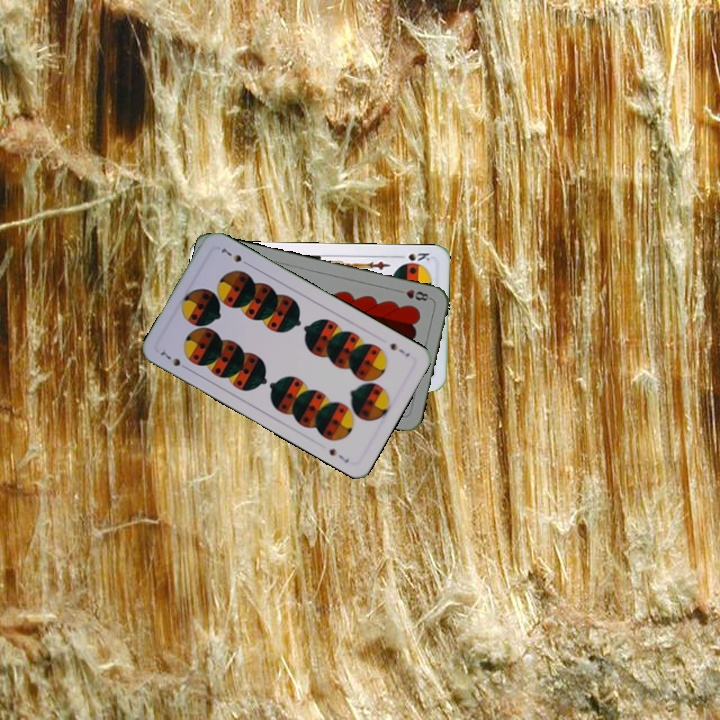H8: (393, 285, 433, 304)
S7: (156, 345, 192, 373), (386, 339, 412, 359)
SK: (393, 249, 432, 267)
